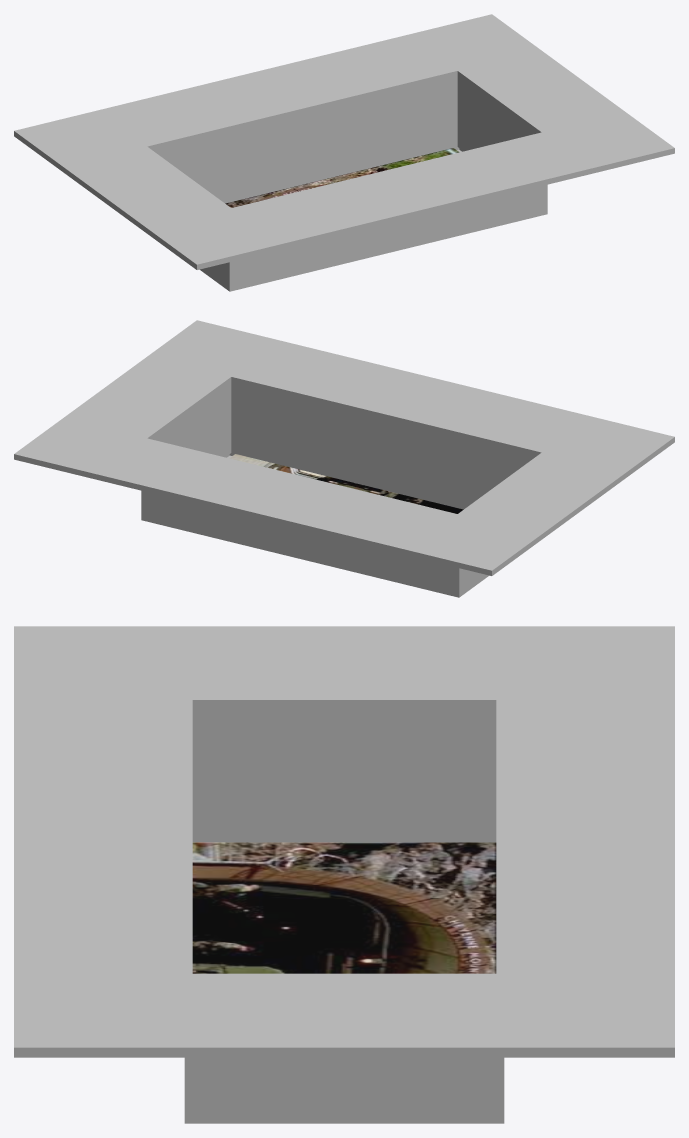
The model's file is whirlpool_bins_earth_1.dae.
3 views of the same model, one above another, from view 1: azimuth 30°, elevation 25°; view 2: azimuth 150°, elevation 25°; view 3: azimuth 270°, elevation 25° (orthographic). The views are drawn at different scales.
Visible parts, largest first — view 1: Bin Earth 1; view 2: Bin Earth 1; view 3: Bin Earth 1.
Part boxes in pixels (x1,y1,x2,y2): Bin Earth 1: (14, 14, 674, 291); Bin Earth 1: (14, 320, 674, 597); Bin Earth 1: (14, 626, 674, 1123).
Size of the model in its own units: 0.9146 by 0.6063 by 0.1484.
Materials: 2 (1 with a texture image).
